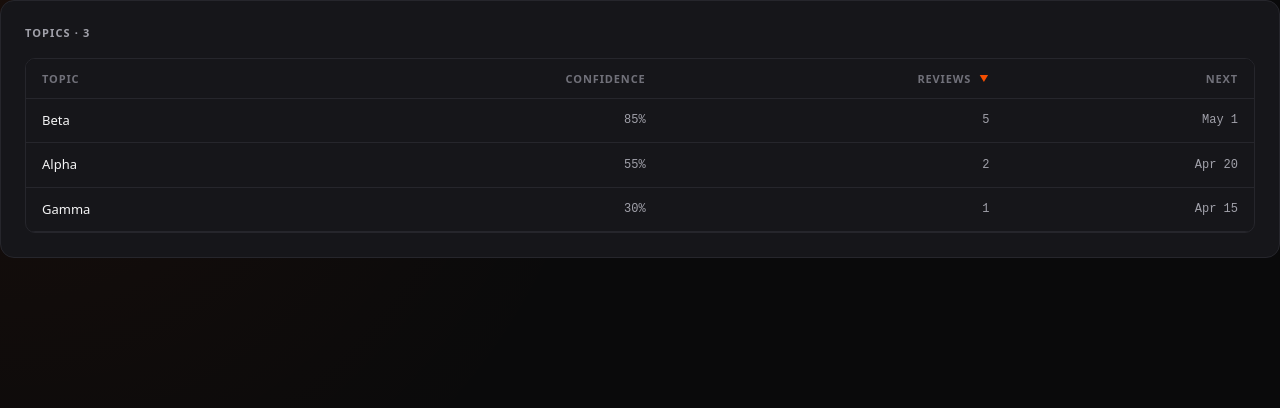
<TopicsExplorer /> › expands a topic row when clicked, showing confidence details
Expected: the text "alpha" is shown, [26,142,292,187]
Click the text "alpha": (640, 165) [26,142,1254,187]
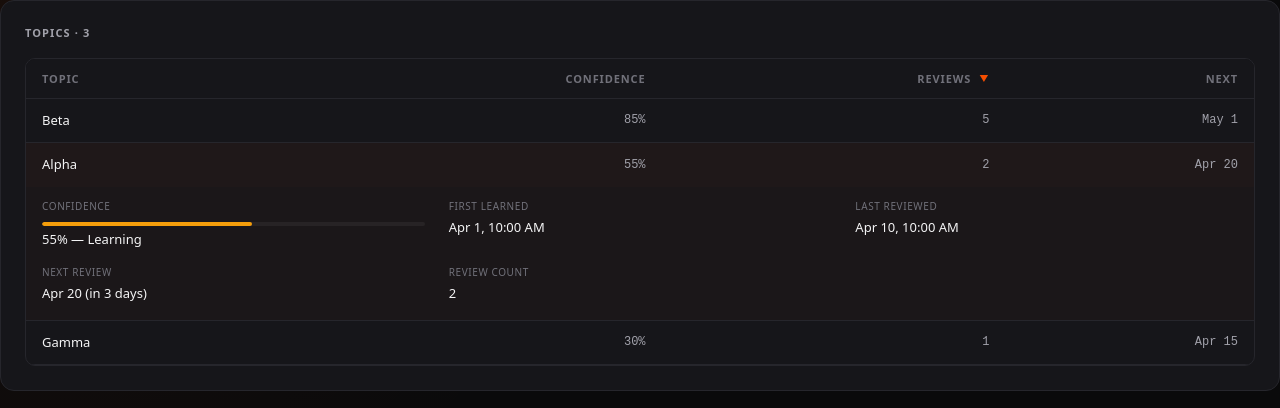
Expected: the text "First learned" is shown, [449,198,529,212]
Expected: the text "Review count" is shown, [449,265,529,279]
Expected: the text "Next review" is shown, [42,265,112,279]
